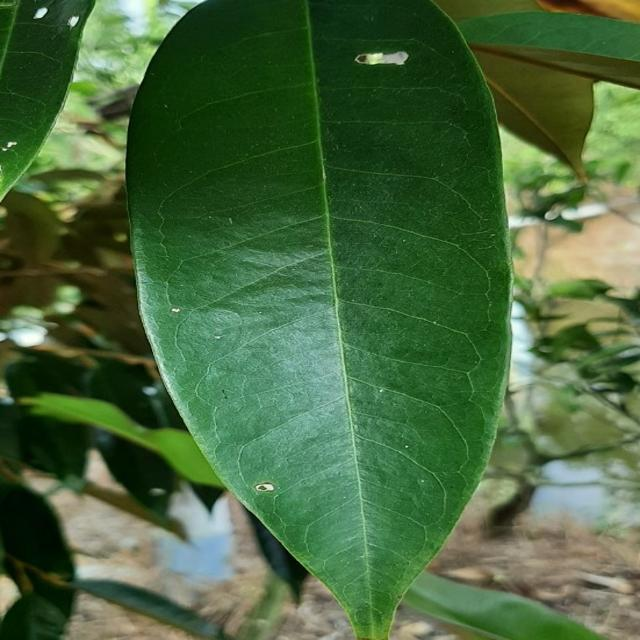No Disease: (123, 0, 529, 640)
